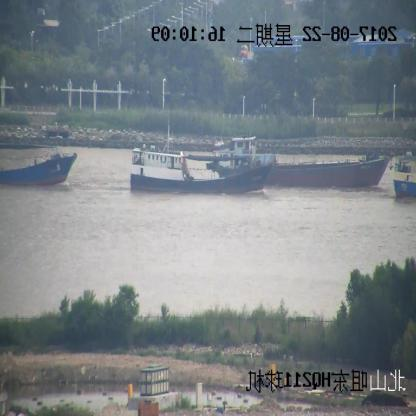Fishing Boat: (128, 140, 272, 194), (0, 142, 77, 188)
